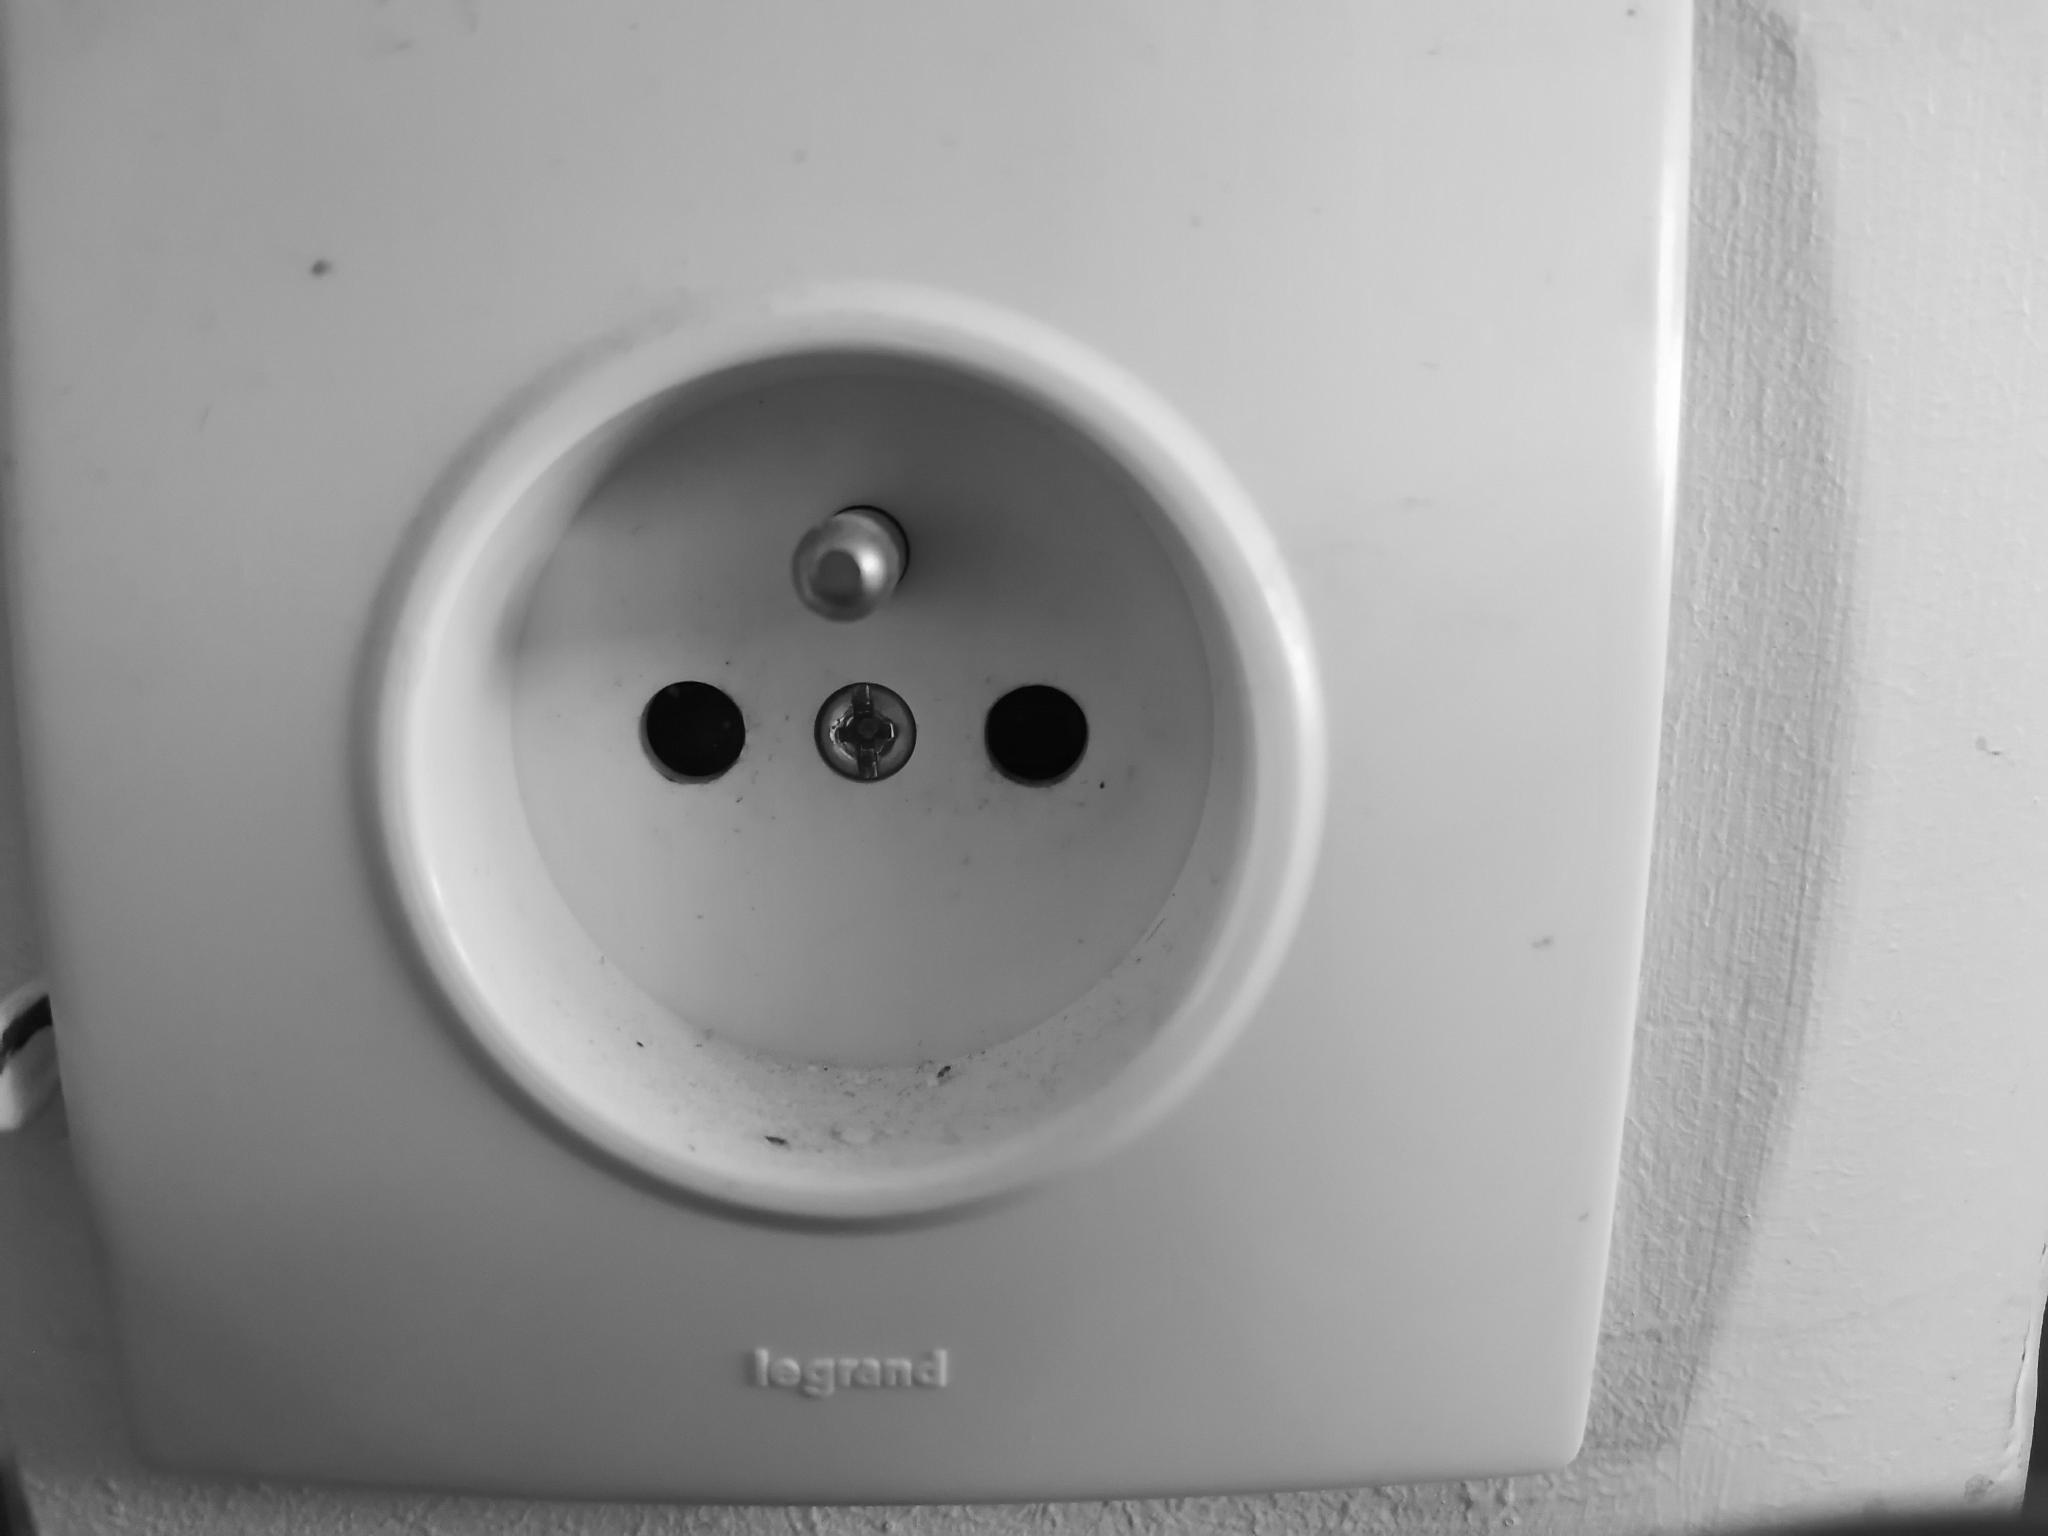screw: (798, 678, 927, 797)
